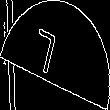L_S: (39, 26, 71, 84)
